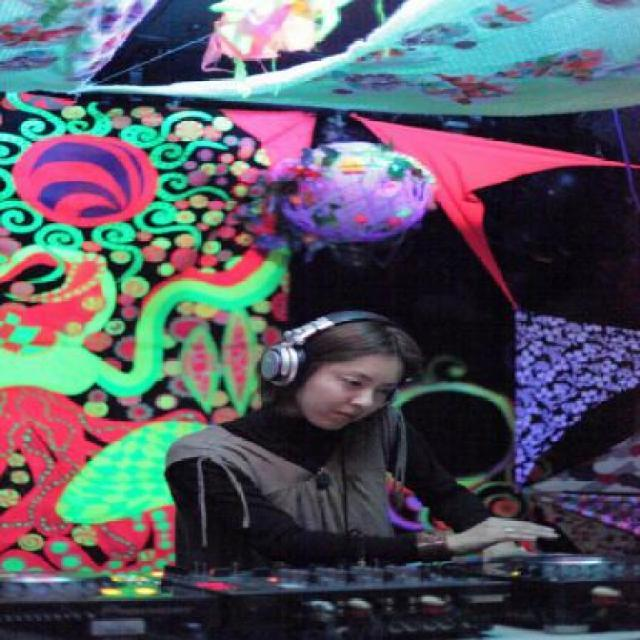earphone: (262, 294, 402, 398)
